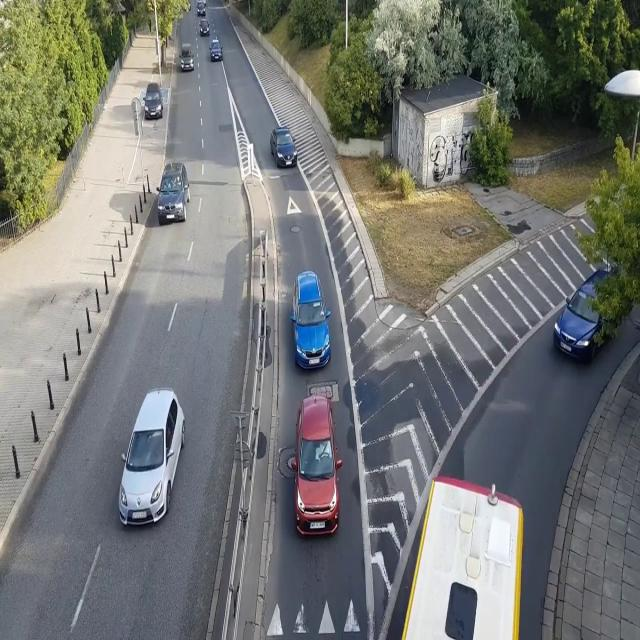bus: (398, 472, 524, 640)
car: (118, 387, 185, 527), (552, 265, 625, 365), (291, 395, 342, 538), (290, 269, 331, 370), (156, 162, 190, 225), (270, 127, 298, 169), (143, 82, 163, 120), (179, 43, 194, 72), (208, 39, 224, 62), (199, 18, 210, 37), (196, 2, 206, 17), (183, 0, 191, 11)
